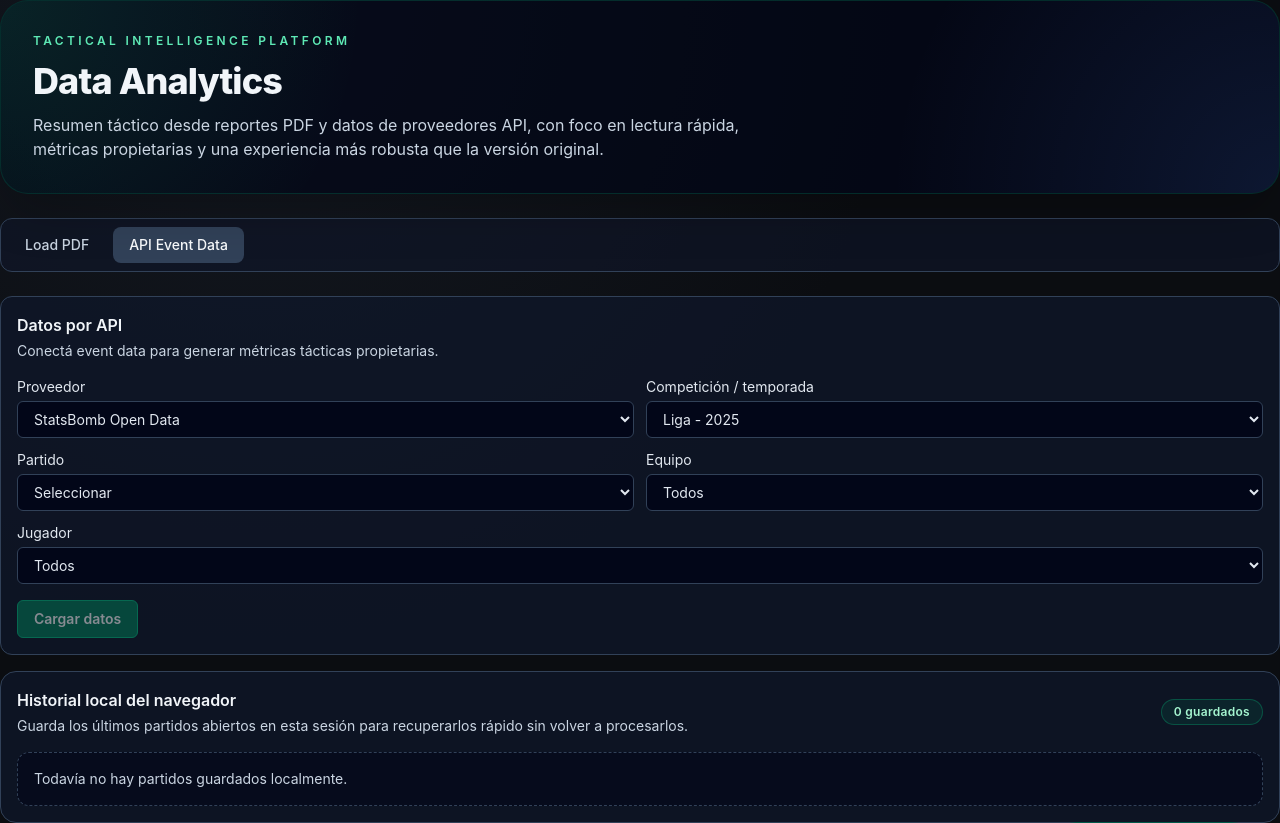
Scenario: Vertical2Page › carga el flujo específico de API-Football al cambiar de provider
Select "API-Football" in the dropdown labelled "Proveedor". click: {"x": 326, "y": 420}
box: top-left (17, 401), bottom-right (634, 438)
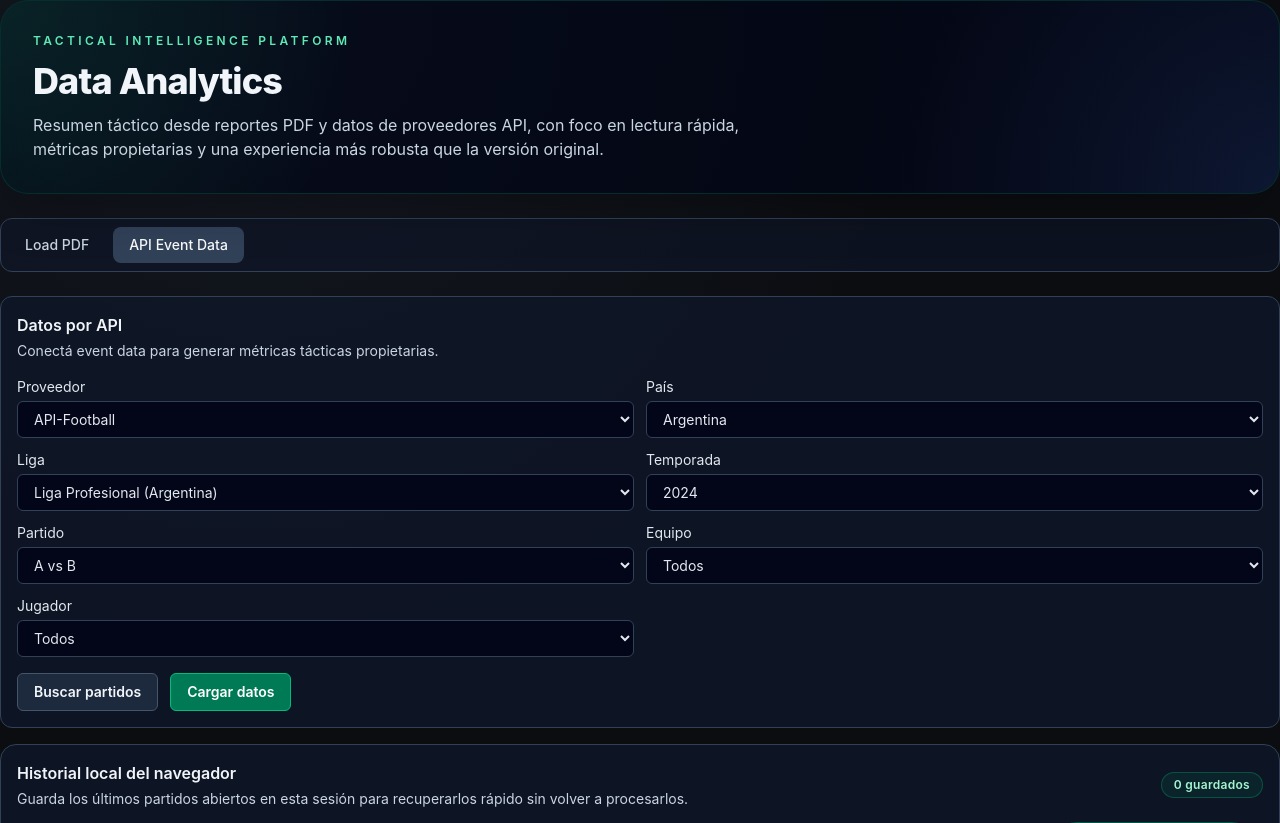
Expected: the dropdown labelled "País" shows "Argentina", top-left (646, 401), bottom-right (1263, 438)
Expected: the dropdown labelled "Liga" shows "Liga Profesional (Argentina)", top-left (17, 474), bottom-right (634, 511)
Expected: the dropdown labelled "Temporada" shows "2024", top-left (646, 474), bottom-right (1263, 511)
